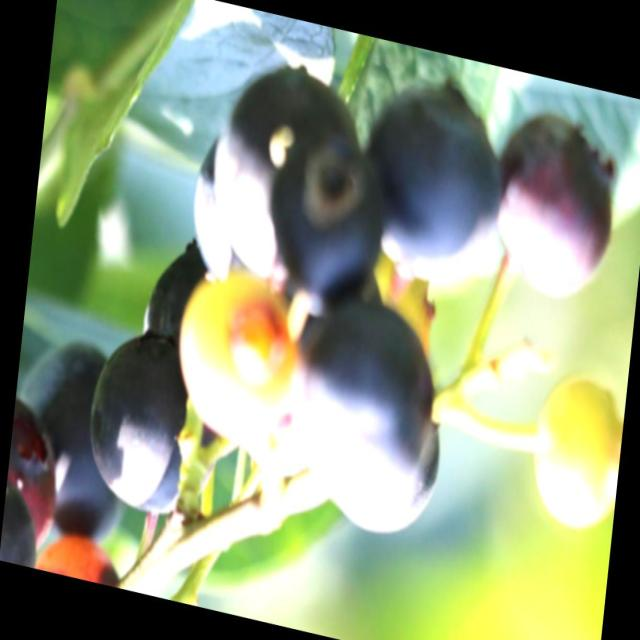blueberry: (205, 53, 379, 299), (293, 292, 441, 510), (365, 75, 506, 294), (490, 100, 618, 308), (81, 321, 207, 522)
blueberry-unripe: (167, 266, 303, 459), (526, 370, 626, 534), (0, 398, 67, 558)
